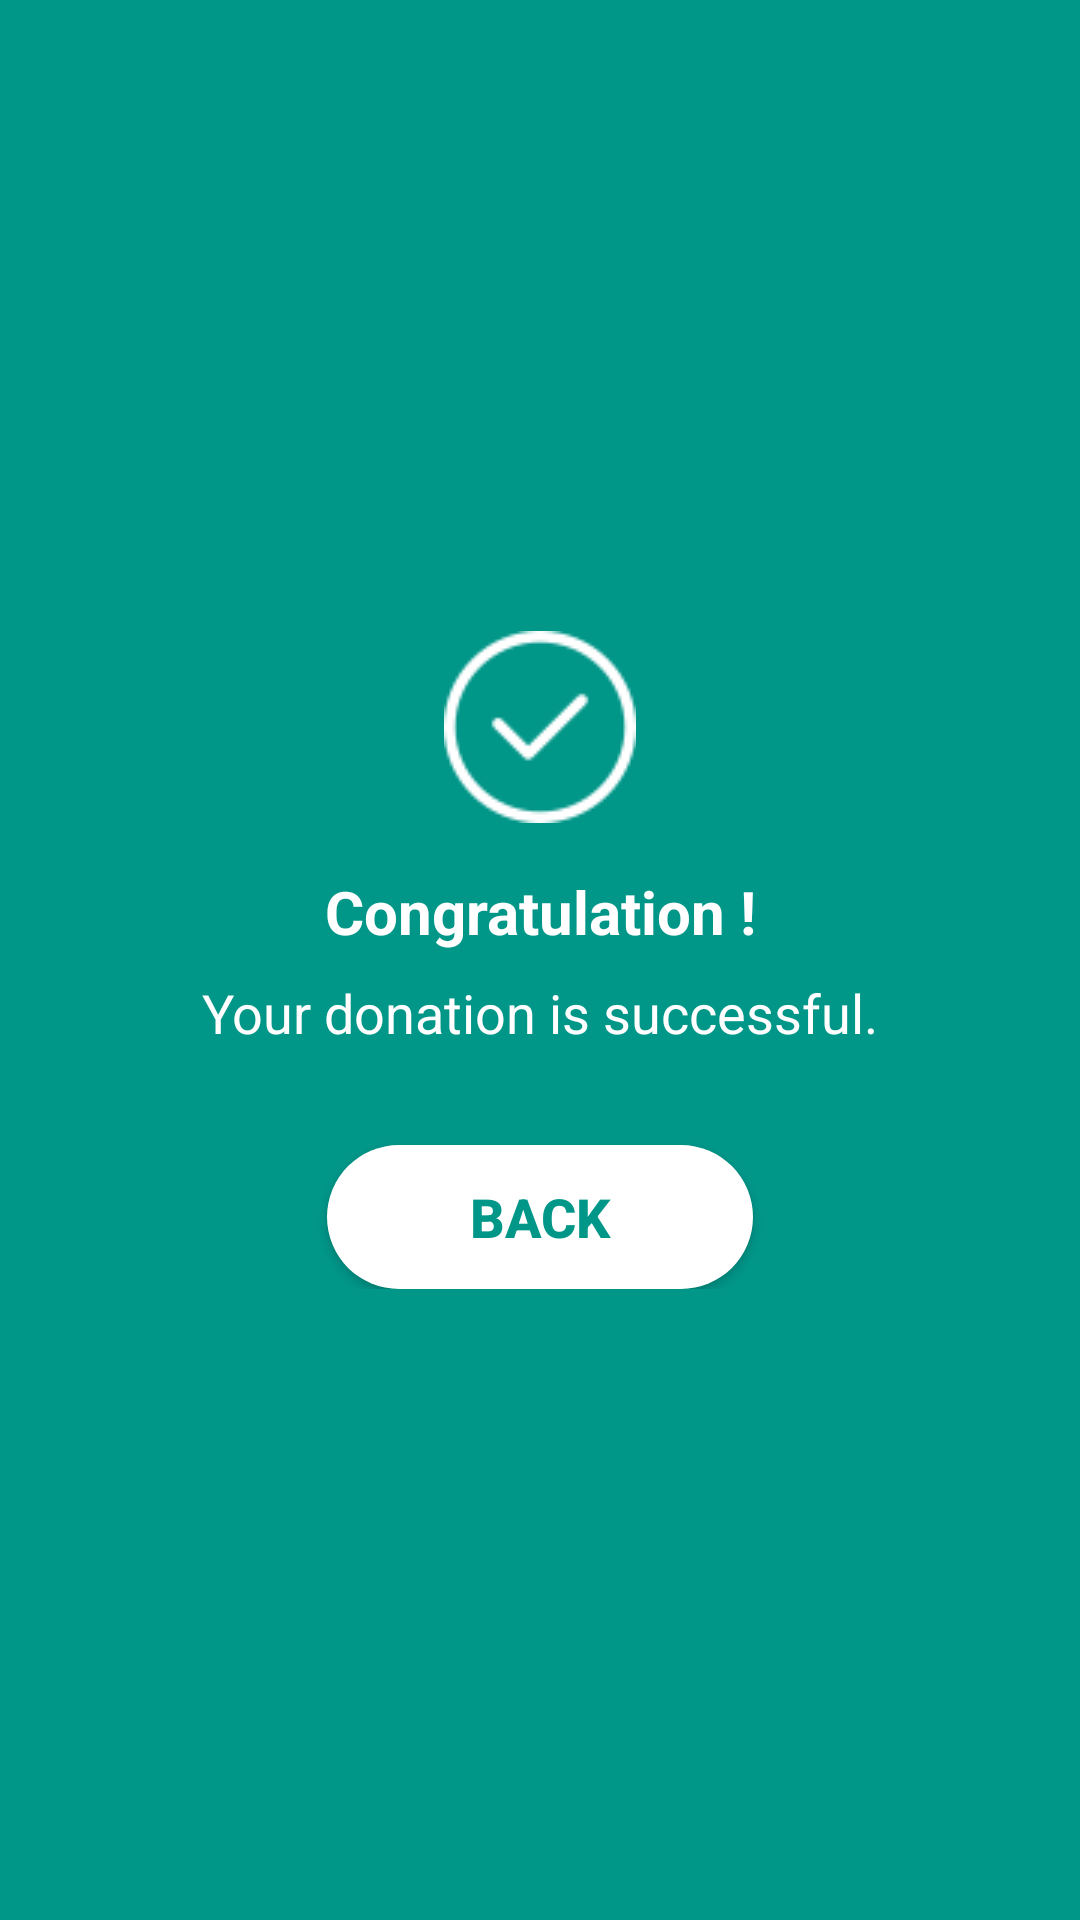

Icon click points for this 1080w x 1920h phone screenshot, format (x,y):
right: (540,727)
